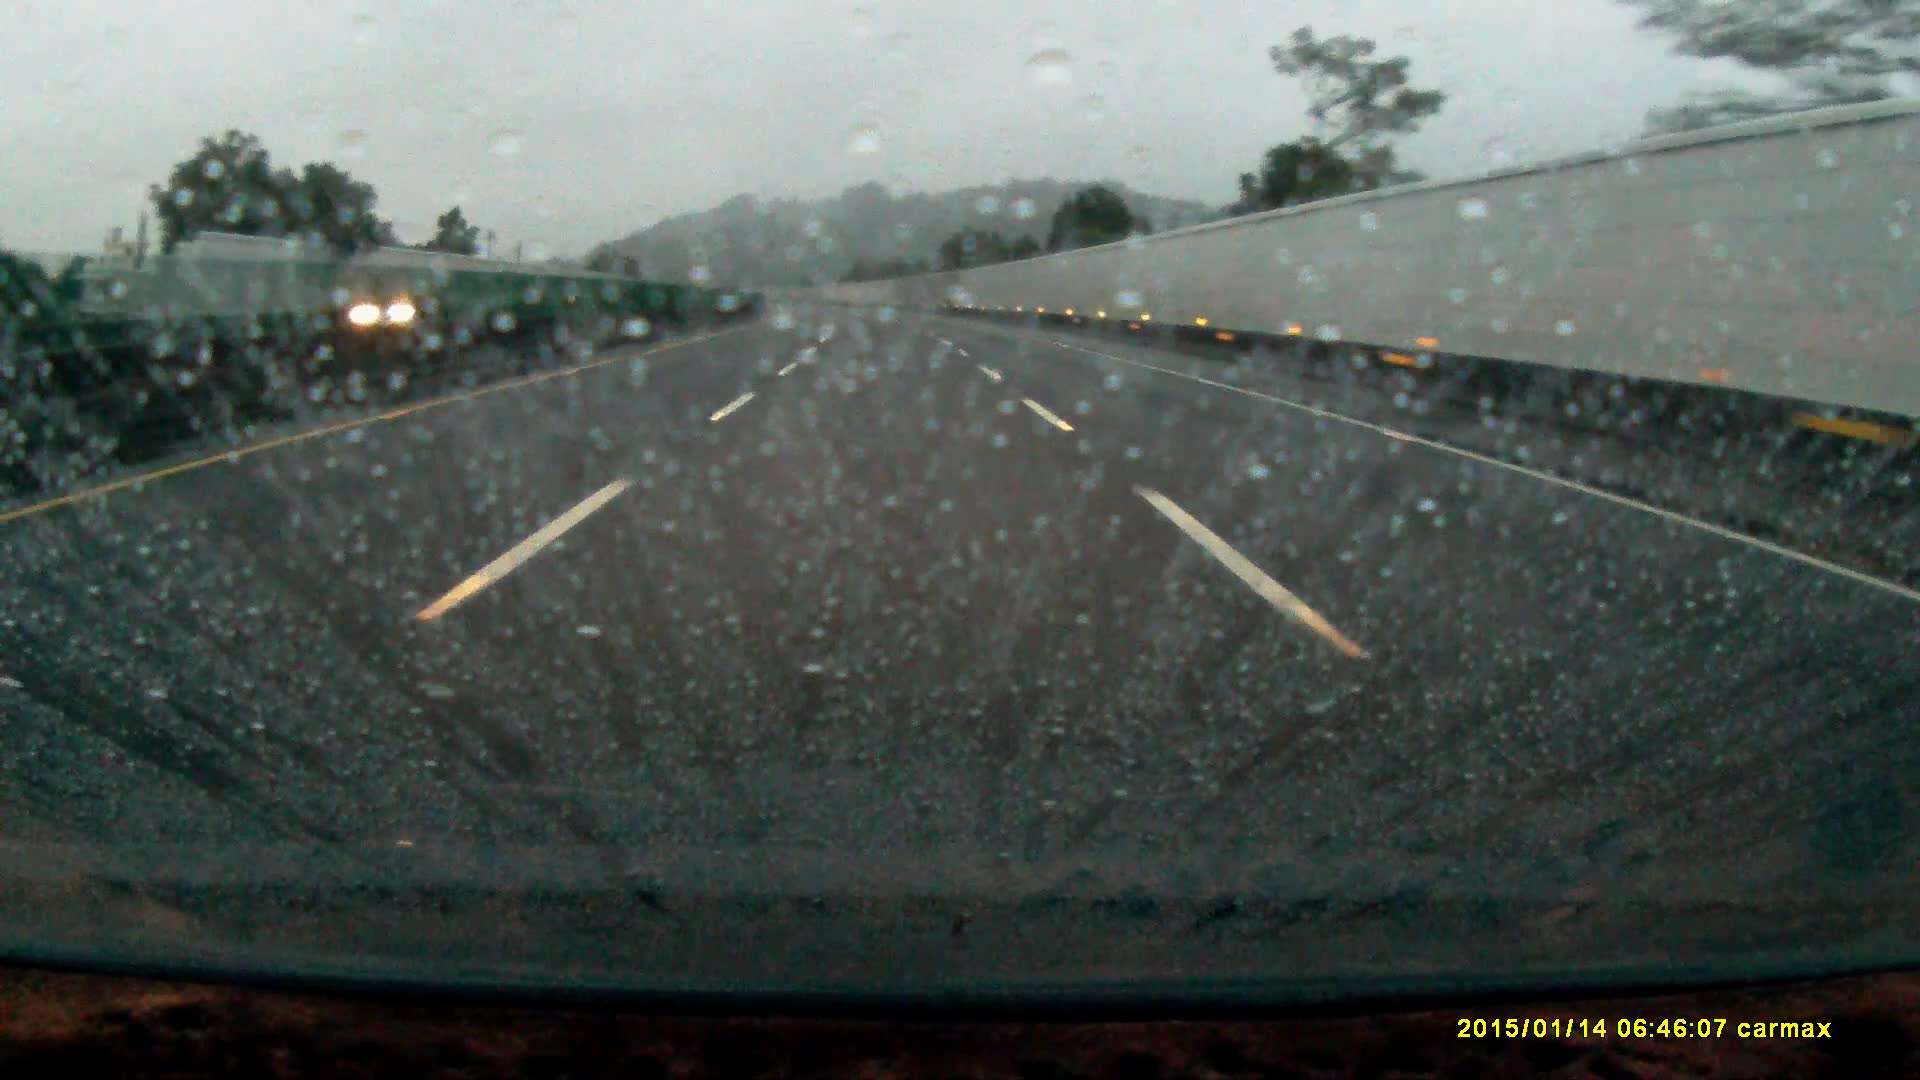vehicle: (349, 290, 436, 334)
